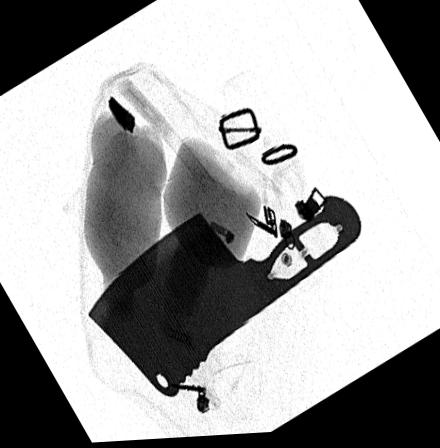Knife: (86, 197, 362, 400)
